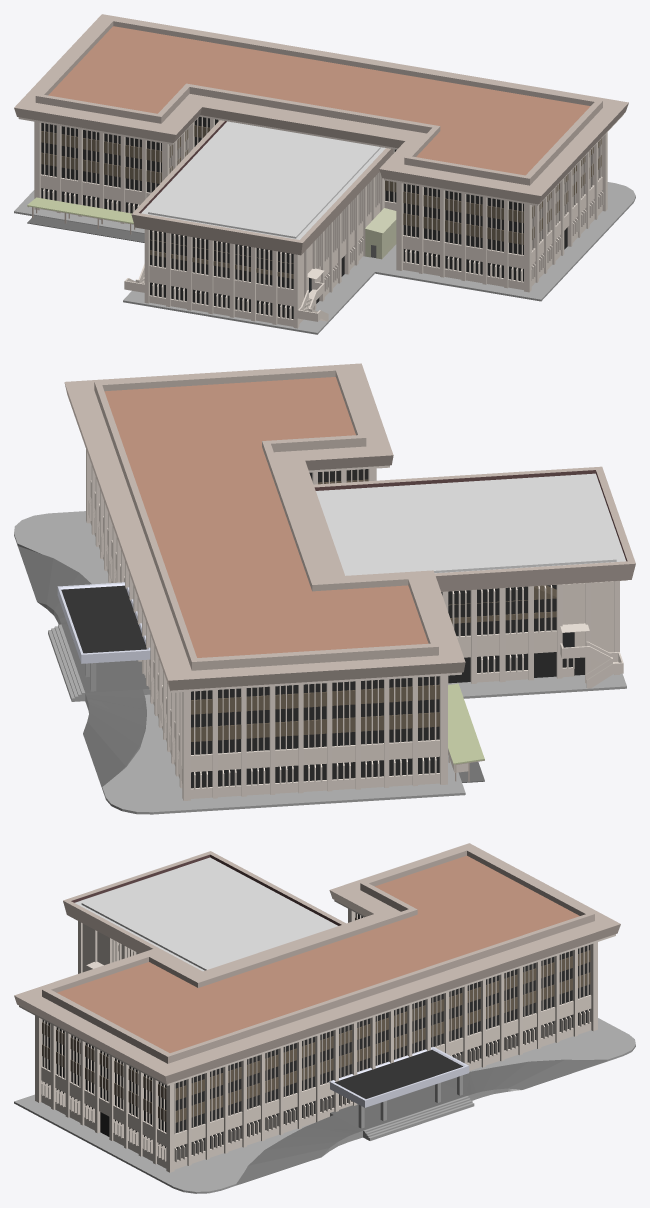
Rendered from Administration.glb.
3 renders of one model, top to bottom at view 1: azimuth 30°, elevation 25°; view 2: azimuth 150°, elevation 25°; view 3: azimuth 270°, elevation 25°, orthographic. The views are drawn at different scales.
Parts seen in each view (by area): view 1: Administration; view 2: Administration; view 3: Administration.
Part boxes in pixels (x1=…): Administration: x1=14, y1=14, x2=635, y2=334; Administration: x1=14, y1=363, x2=635, y2=814; Administration: x1=14, y1=843, x2=635, y2=1193.
Size of the model in its own units: 73.68 by 15.98 by 78.23.
Materials: 1 (1 with a texture image).
